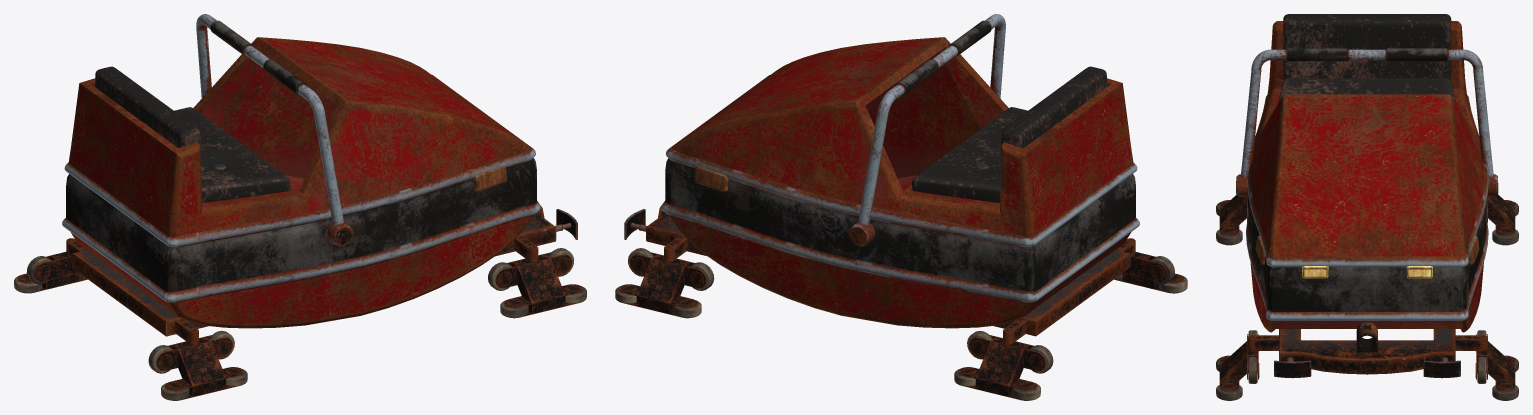
Rendered from AbandonedCoasterCart_1K.glb.
3 renders of one model, left to right at view 1: azimuth 30°, elevation 25°; view 2: azimuth 150°, elevation 25°; view 3: azimuth 270°, elevation 25°, orthographic. The views are drawn at different scales.
Visible parts, largest first — view 1: polySurface3, transform47, RollerCoasterCart:RollerCoasterCart:polySurface76_f_4_; view 2: polySurface3, transform47, RollerCoasterCart:RollerCoasterCart:polySurface76_f_4_; view 3: polySurface3, transform47, RollerCoasterCart:RollerCoasterCart:polySurface76_f_4_.
Part boxes in pixels (x1,y1,x2,y2): polySurface3: (62,37,540,328); transform47: (14,66,586,400); RollerCoasterCart:RollerCoasterCart:polySurface76_f_4_: (72,14,556,336); polySurface3: (661,37,1139,328); transform47: (615,66,1187,400); RollerCoasterCart:RollerCoasterCart:polySurface76_f_4_: (646,14,1130,336); polySurface3: (1246,21,1488,332); transform47: (1216,14,1518,400); RollerCoasterCart:RollerCoasterCart:polySurface76_f_4_: (1236,48,1498,374).
Size of the model in its own units: 2.15 by 1.17 by 1.35.
3 materials, 3 textured.
